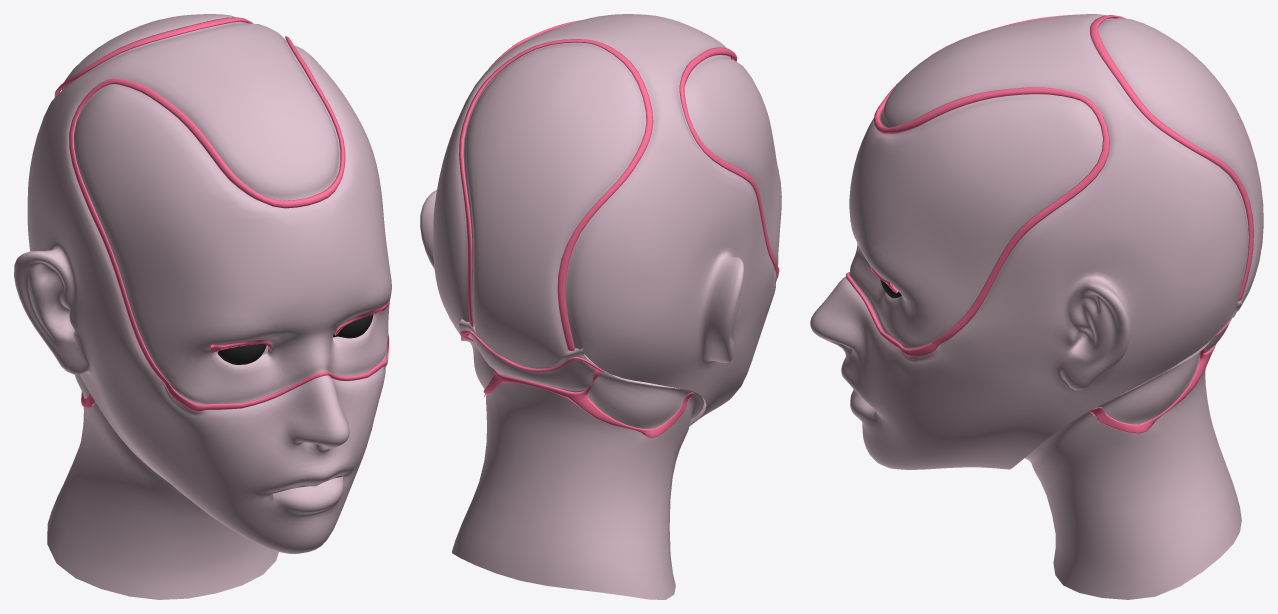
Rendered from CyborgWhite.glb.
3 views of the same model, side by side, from view 1: azimuth 30°, elevation 25°; view 2: azimuth 150°, elevation 25°; view 3: azimuth 270°, elevation 25° (orthographic). The views are drawn at different scales.
Visible parts, largest first — view 1: Head, Neck, Neon, NeonEyelashes; view 2: Head, Neck, Neon, Neon_neck; view 3: Head, Neck, Neon, Neon_neck.
Part boxes in pixels (x1,y1,x2,y2): Head: [14, 14, 391, 553]; Neck: [47, 374, 278, 599]; Neon: [54, 17, 389, 411]; NeonEyelashes: [210, 301, 389, 353]; Head: [420, 14, 781, 426]; Neck: [452, 319, 704, 599]; Neon: [459, 20, 779, 351]; Neon_neck: [460, 330, 694, 438]; Head: [810, 14, 1263, 469]; Neck: [1024, 300, 1242, 599]; Neon: [846, 14, 1253, 356]; Neon_neck: [1090, 314, 1235, 433].
Size of the model in its own units: 1.63 by 2.59 by 1.99.
